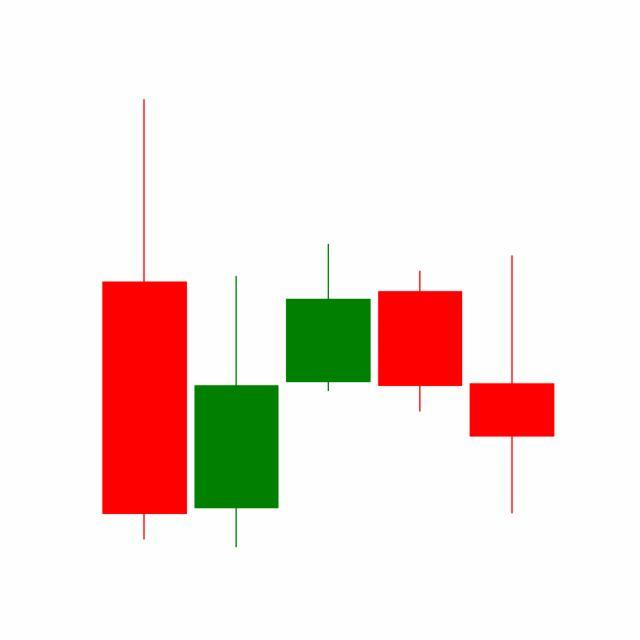Three Outside Up-Down: (280, 241, 555, 517)
